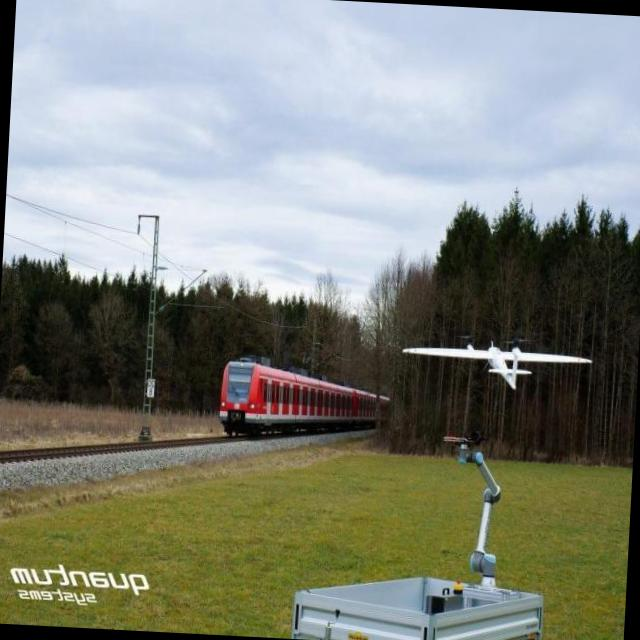UAV: (423, 294, 560, 395)
